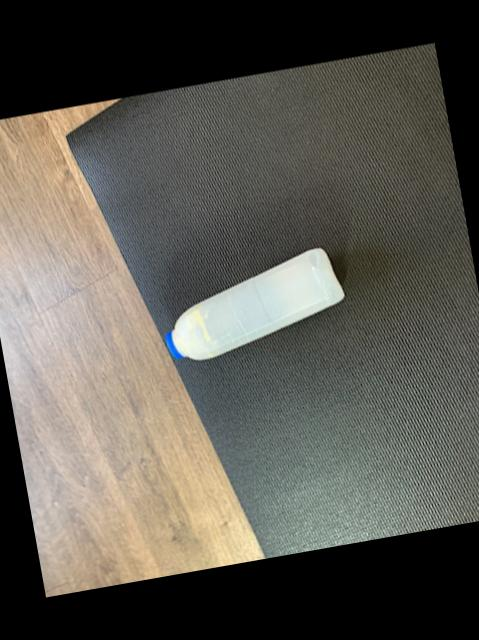plastic: (172, 249, 344, 361)
